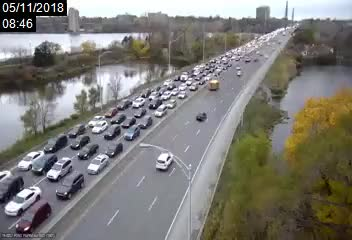congestion: (1, 126, 120, 233), (74, 95, 157, 147), (132, 74, 197, 106), (182, 58, 225, 85)
personal_car: (15, 201, 51, 234), (5, 186, 41, 216), (56, 172, 85, 199), (46, 157, 73, 180), (1, 175, 24, 201), (17, 150, 45, 171), (32, 154, 57, 174), (44, 134, 67, 154), (88, 154, 108, 174), (76, 143, 100, 159), (155, 151, 172, 169), (123, 125, 141, 140), (71, 135, 90, 149), (105, 124, 121, 140), (106, 142, 123, 157), (69, 124, 85, 138), (92, 121, 108, 134), (117, 98, 132, 111), (89, 115, 105, 127), (138, 116, 152, 129), (110, 113, 126, 124), (154, 104, 166, 118), (131, 97, 145, 109), (133, 106, 146, 118), (105, 107, 117, 118), (122, 116, 134, 127), (140, 87, 151, 98), (148, 98, 160, 108), (195, 111, 207, 121), (188, 82, 199, 91), (166, 99, 177, 108), (176, 91, 187, 99), (157, 87, 167, 95), (160, 90, 168, 100), (163, 78, 172, 86), (166, 82, 175, 90), (151, 85, 160, 93), (179, 83, 187, 91), (171, 87, 179, 95), (148, 92, 156, 100), (185, 78, 193, 85), (173, 74, 180, 81), (198, 79, 204, 85), (194, 75, 201, 80)
truck: (181, 70, 192, 81)
